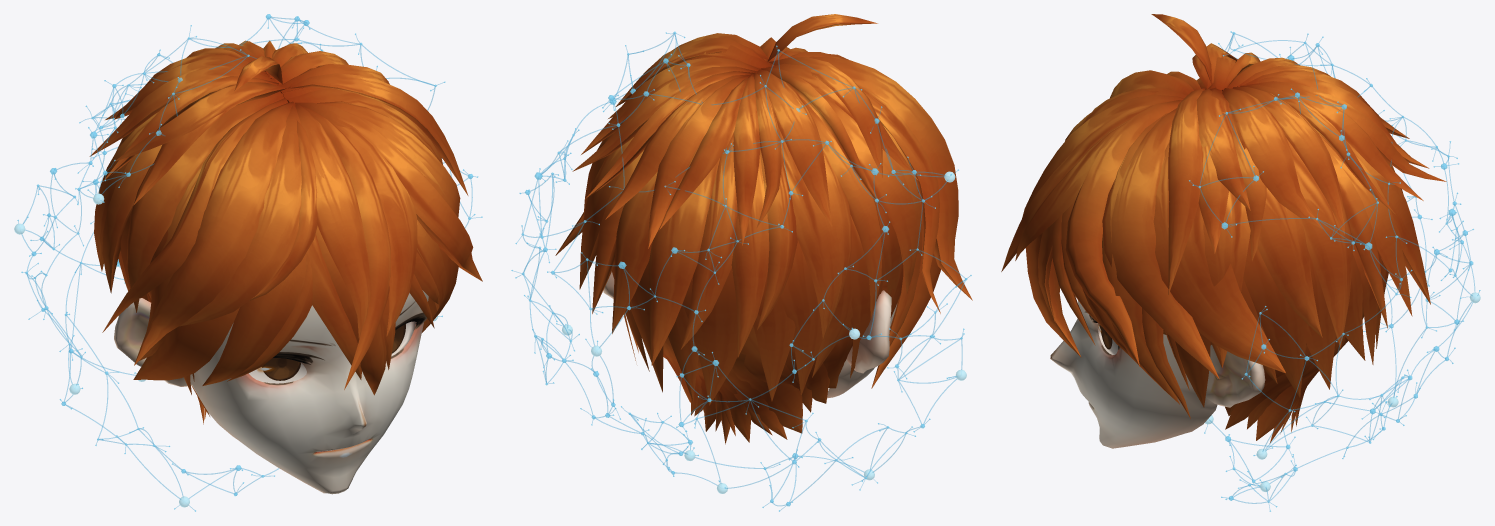
The model's file is imprint-kai.glb.
3 renders of one model, left to right at view 1: azimuth 30°, elevation 25°; view 2: azimuth 150°, elevation 25°; view 3: azimuth 270°, elevation 25°, orthographic. The views are drawn at different scales.
Parts seen in each view (by area): view 1: Echo_Hair, Echo_Face, Echo_Synapses, Echo_Neurons, Echo_EyeR; view 2: Echo_Hair, Echo_Synapses, Echo_Face, Echo_Neurons, Echo_Hubs; view 3: Echo_Hair, Echo_Face, Echo_Synapses, Echo_Neurons.
Part boxes in pixels (left/top/right/bottom): Echo_Hair: left=89, top=40, right=482, bottom=424; Echo_Face: left=114, top=290, right=428, bottom=494; Echo_Synapses: left=18, top=17, right=480, bottom=510; Echo_Neurons: left=17, top=14, right=482, bottom=511; Echo_EyeR: left=257, top=358, right=300, bottom=380; Echo_Hair: left=555, top=14, right=972, bottom=444; Echo_Synapses: left=514, top=33, right=969, bottom=510; Echo_Face: left=603, top=271, right=896, bottom=398; Echo_Neurons: left=511, top=31, right=971, bottom=511; Echo_Hubs: left=562, top=171, right=966, bottom=493; Echo_Hair: left=1001, top=14, right=1446, bottom=443; Echo_Face: left=1050, top=300, right=1265, bottom=448; Echo_Synapses: left=1190, top=32, right=1479, bottom=508; Echo_Neurons: left=1189, top=31, right=1480, bottom=511.
Size of the model in its own units: 2.72 by 2.74 by 2.6.
13 materials, 10 textured.
